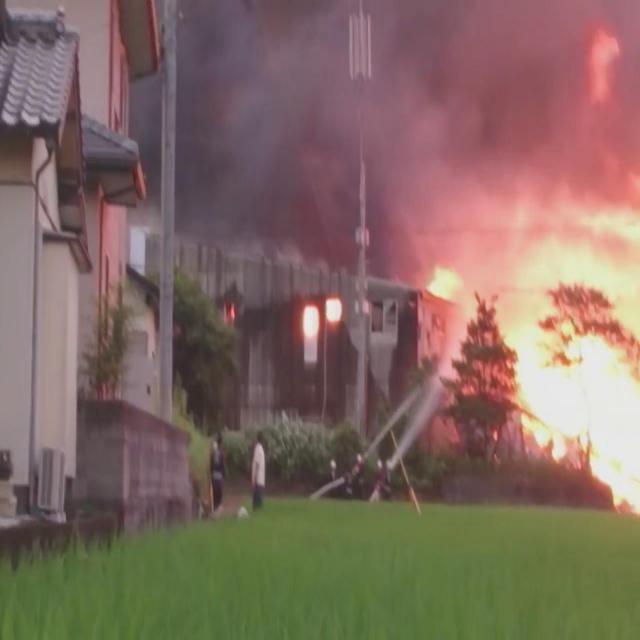Fire: (488, 199, 638, 513), (422, 266, 460, 298)
